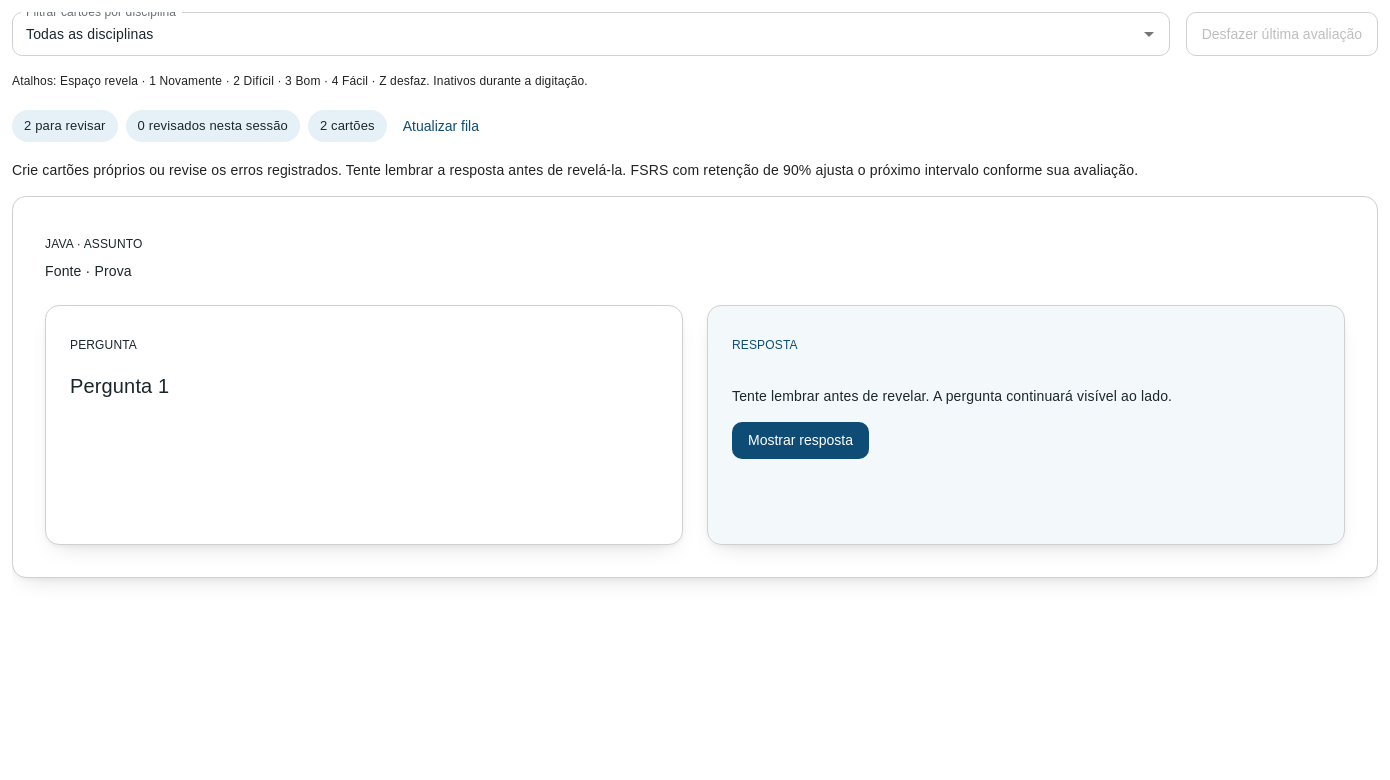
Test: Flashcards com atalhos › filters by discipline, protects typing, rates once and undoes the latest schedule
This screenshot has width=1390, height=780.
Check: the heading "Pergunta 1" is shown, box [70, 375, 169, 397]
Replace the text in the dropdown labelled "Filtrar cartões por disciplina" with "Português" at (574, 34), box [18, 21, 1131, 47]
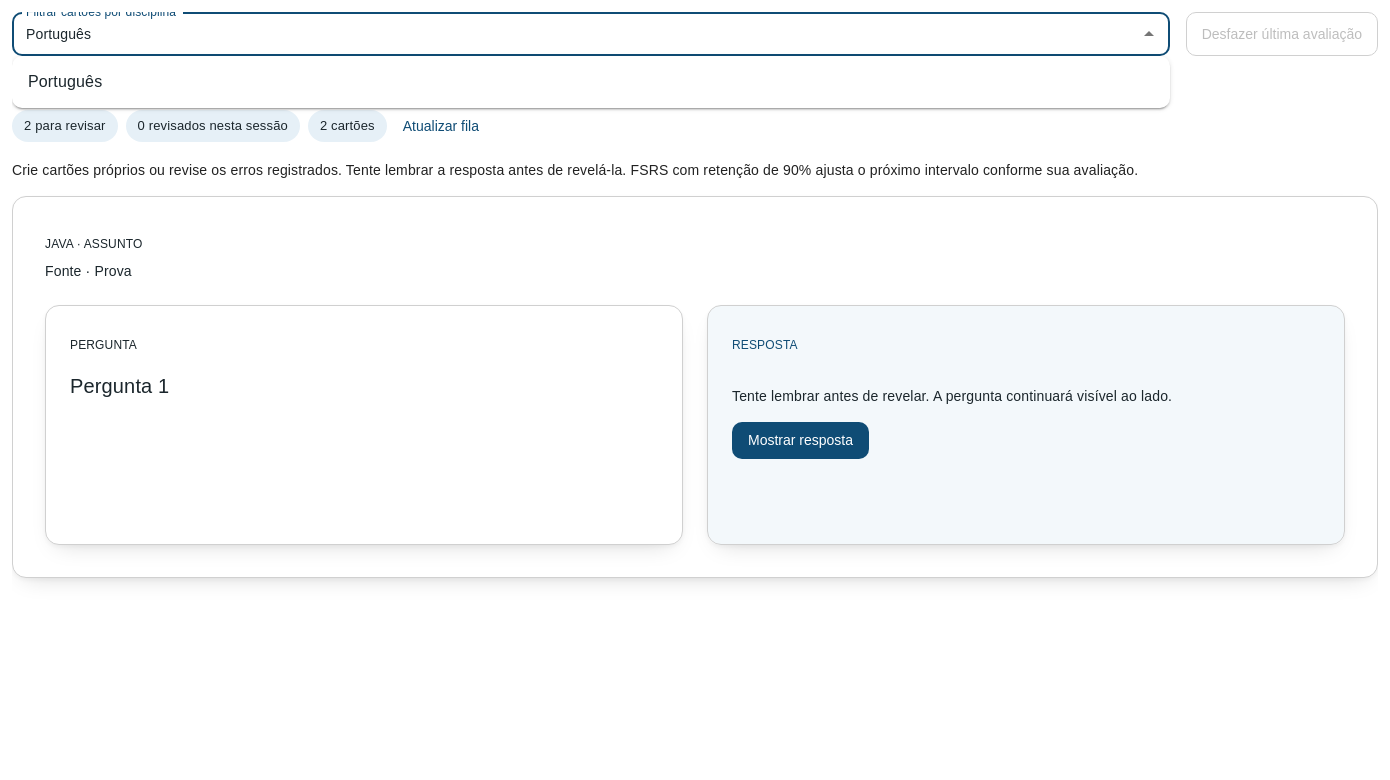
Click the option "Português" at (65, 82), box [28, 73, 102, 90]
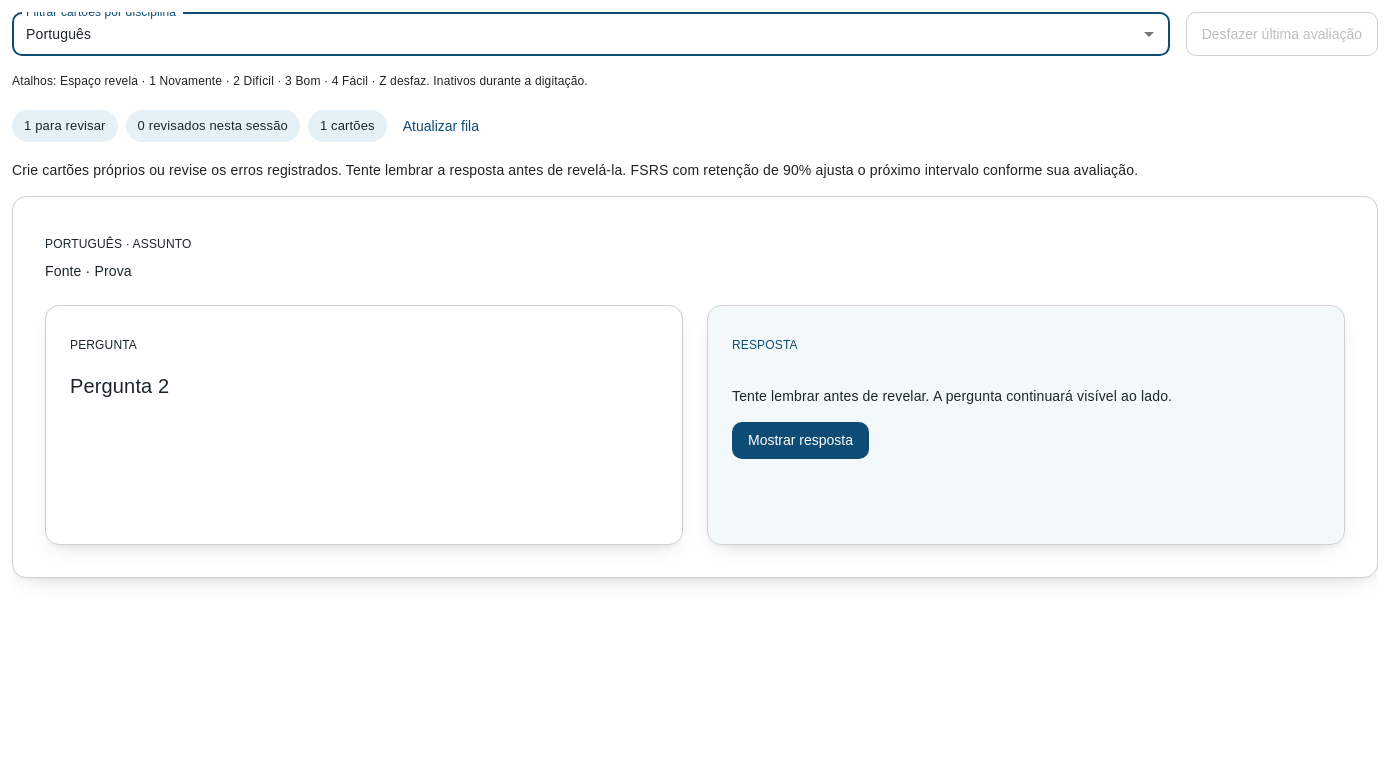
Check: the heading "Pergunta 2" is shown, box [70, 375, 169, 397]
Press 3
Press Space
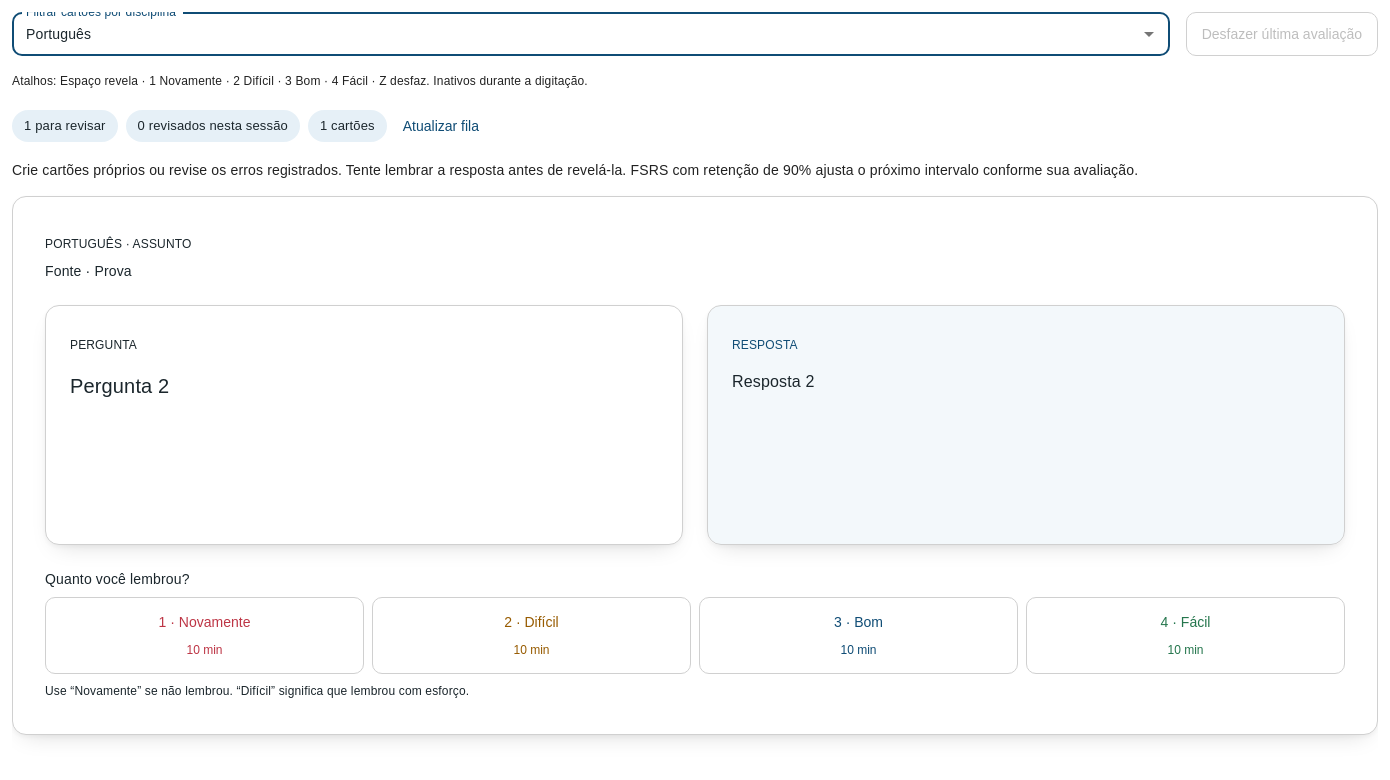
Check: the text "Resposta 2" is shown, box [732, 373, 814, 390]
Press 3 in the dropdown labelled "Filtrar cartões por disciplina", box [18, 21, 1131, 47]
Press 3
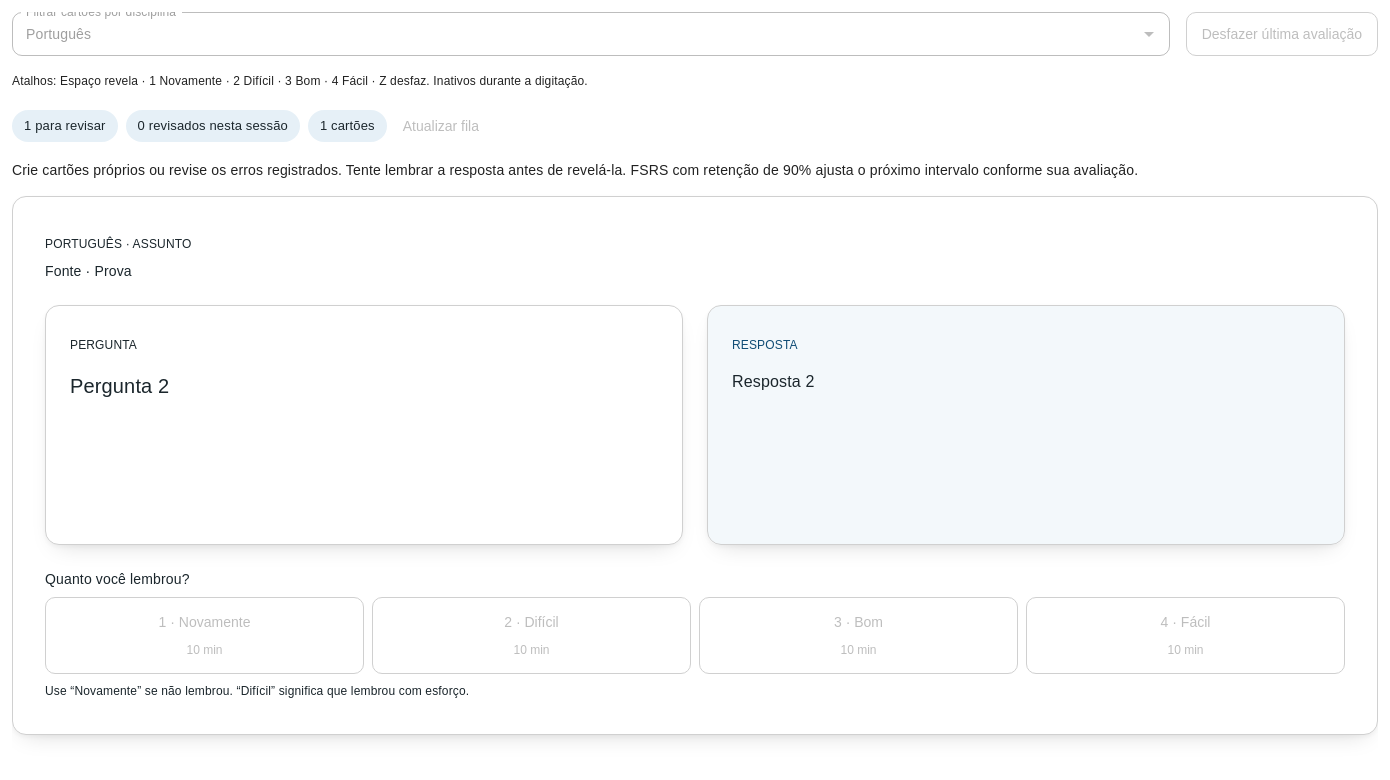
Press 3
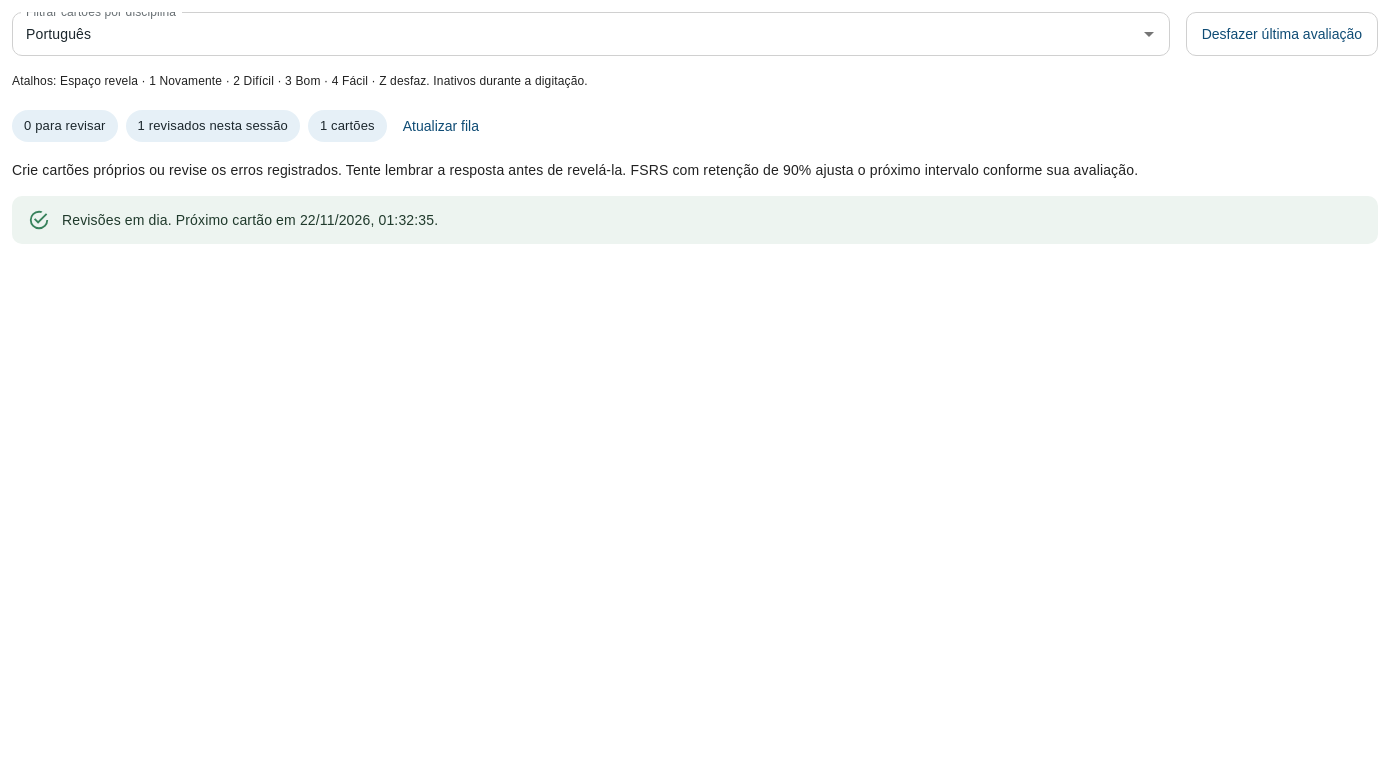
Check: the text "Revisões em dia. Próximo cartão em 22/11/2026, 01:32:35." is shown, box [62, 212, 438, 228]
Press z
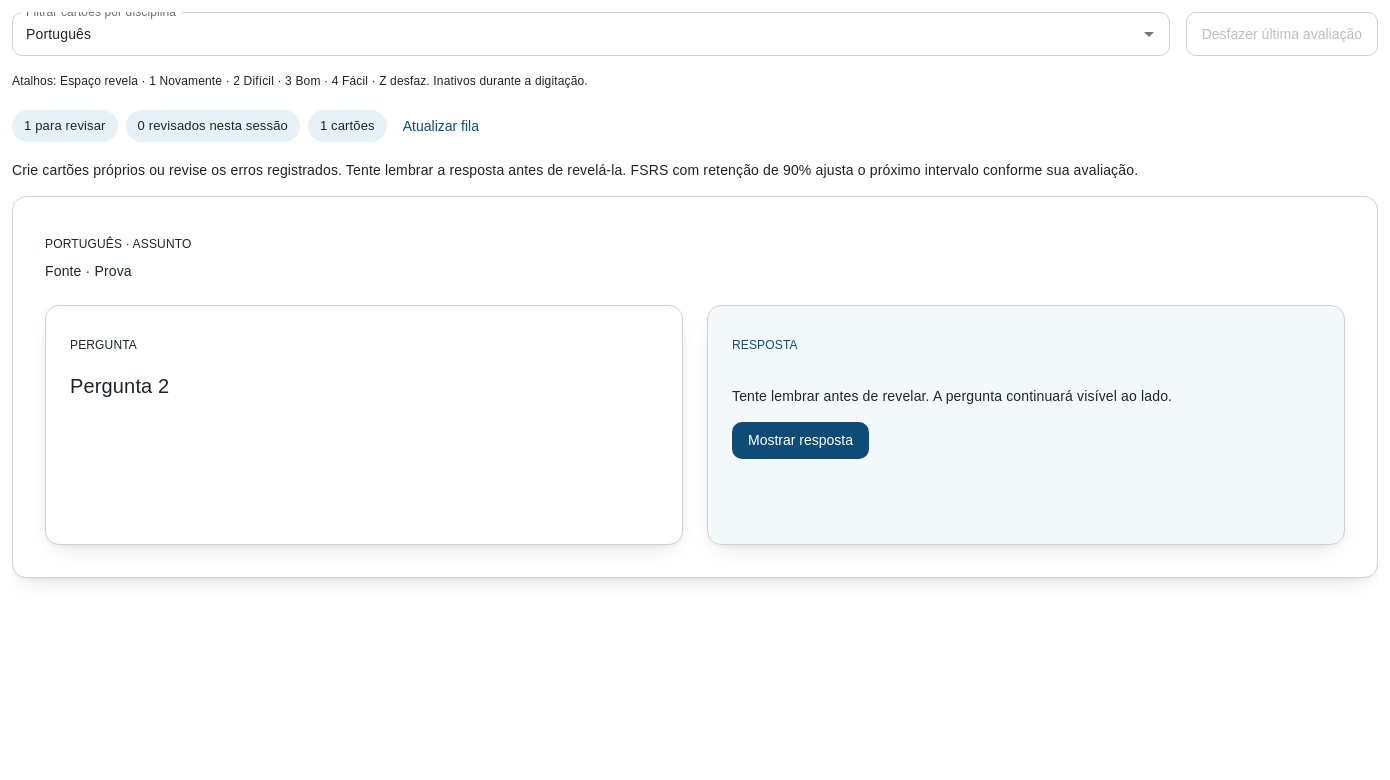
Check: the heading "Pergunta 2" is shown, box [70, 375, 169, 397]
Check: the text "0 revisados nesta sessão" is shown, box [126, 116, 300, 136]
Check: the button "Desfazer última avaliação" is disabled, box [1186, 12, 1378, 56]
